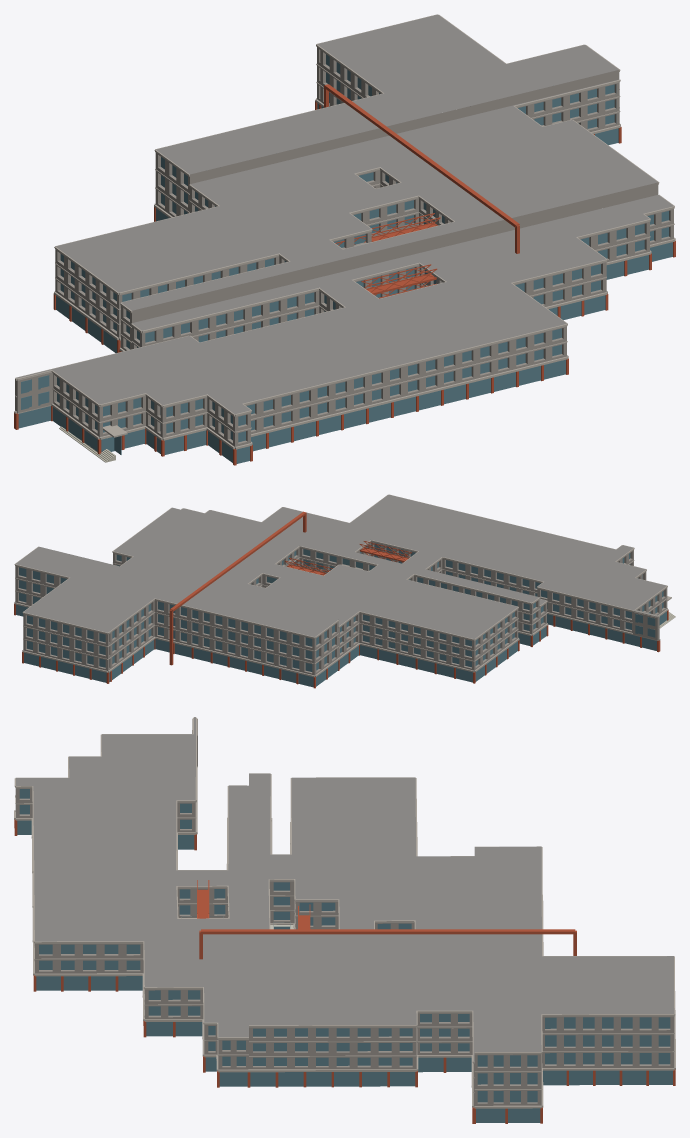
Rendered from arts.far.glb.
3 renders of one model, top to bottom at view 1: azimuth 30°, elevation 25°; view 2: azimuth 150°, elevation 25°; view 3: azimuth 270°, elevation 25°, orthographic. The views are drawn at different scales.
Visible parts, largest first — view 1: arts_roof, podium, glass, podiumTrim, artsRed; view 2: arts_roof, podium, glass, podiumTrim, artsRed; view 3: arts_roof, glass, podium, podiumTrim, artsRed.
Part boxes in pixels (x1=…): arts_roof: x1=16, y1=14, x2=673, y2=414; podium: x1=15, y1=47, x2=673, y2=446; glass: x1=18, y1=54, x2=672, y2=463; podiumTrim: x1=14, y1=14, x2=675, y2=449; artsRed: x1=14, y1=84, x2=675, y2=465; arts_roof: x1=15, y1=494, x2=666, y2=638; podium: x1=15, y1=541, x2=667, y2=675; glass: x1=16, y1=543, x2=666, y2=687; podiumTrim: x1=14, y1=494, x2=671, y2=677; artsRed: x1=14, y1=511, x2=668, y2=688; arts_roof: x1=15, y1=717, x2=674, y2=1061; glass: x1=17, y1=789, x2=672, y2=1122; podium: x1=15, y1=718, x2=674, y2=1105; podiumTrim: x1=14, y1=717, x2=675, y2=1108; artsRed: x1=14, y1=819, x2=675, y2=1123.
Size of the model in its own units: 177 by 17.82 by 138.
